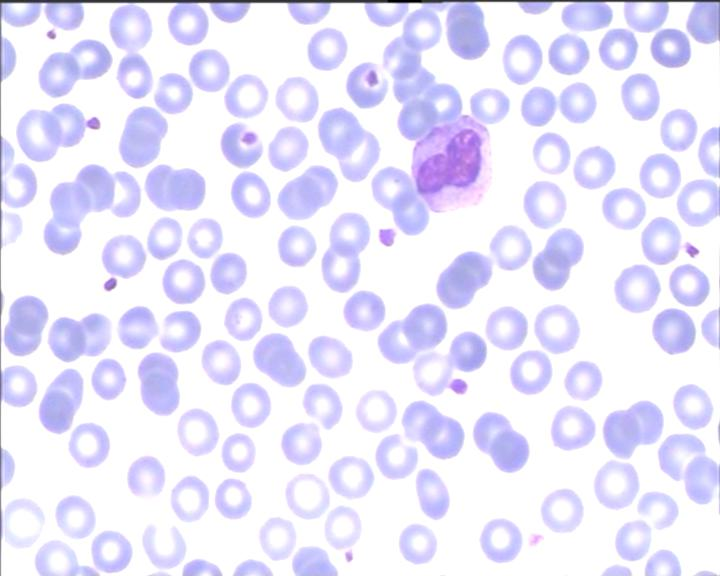mono: (410, 110, 499, 217)
